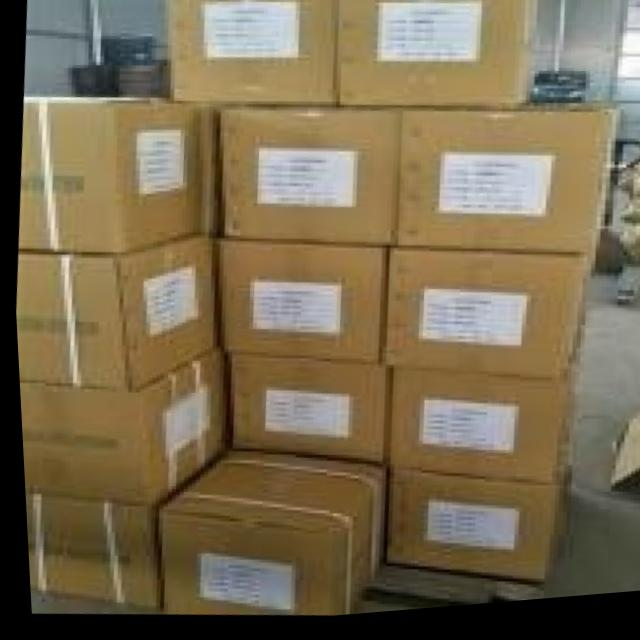box: (153, 452, 376, 620), (391, 109, 618, 265), (15, 355, 227, 511), (12, 235, 212, 394), (15, 97, 200, 257), (381, 254, 592, 386), (217, 107, 405, 251), (334, 0, 537, 117), (205, 238, 387, 368), (380, 374, 571, 489), (376, 476, 565, 590), (164, 0, 334, 110), (227, 361, 385, 476), (20, 495, 156, 613), (194, 110, 215, 235)
